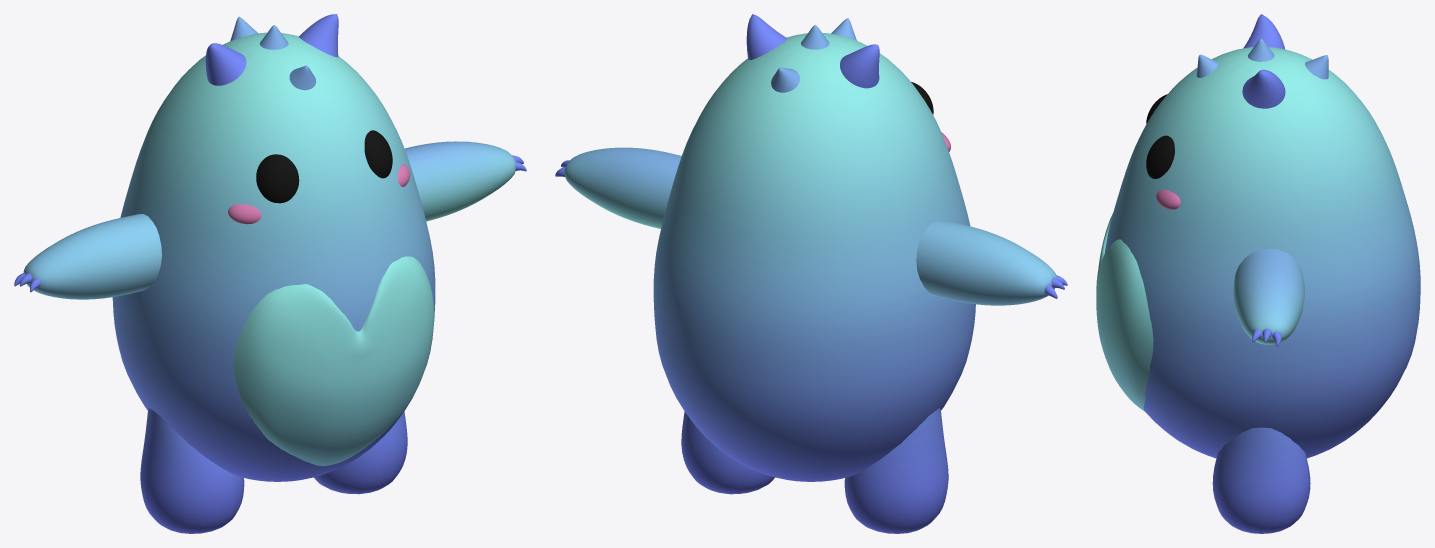
Rendered from ch_public_04.fbx.
The picture shows the model from 3 angles, left to right: view 1: azimuth 30°, elevation 25°; view 2: azimuth 150°, elevation 25°; view 3: azimuth 270°, elevation 25°; orthographic projection. The views are drawn at different scales.
Visible parts, largest first — view 1: ch_2_body, ch_2_belly, ch_2_arm_right, ch_2_leg_right, ch_2_arm_left, ch_2_leg_left, ch_2_eyes, ch_2_horns, ch_2_mohawk, ch_2_cheeks; view 2: ch_2_body, ch_2_arm_right, ch_2_leg_right, ch_2_arm_left, ch_2_leg_left, ch_2_horns, ch_2_mohawk; view 3: ch_2_body, ch_2_leg_left, ch_2_belly, ch_2_arm_left, ch_2_horns, ch_2_mohawk, ch_2_eyes.
Part boxes in pixels (x1=…): ch_2_body: x1=112, y1=32, x2=435, y2=481; ch_2_belly: x1=233, y1=256, x2=434, y2=466; ch_2_arm_right: x1=14, y1=214, x2=161, y2=299; ch_2_leg_right: x1=140, y1=408, x2=244, y2=533; ch_2_arm_left: x1=405, y1=141, x2=526, y2=221; ch_2_leg_left: x1=314, y1=411, x2=407, y2=494; ch_2_eyes: x1=256, y1=130, x2=392, y2=203; ch_2_horns: x1=205, y1=14, x2=338, y2=85; ch_2_mohawk: x1=230, y1=17, x2=316, y2=90; ch_2_cheeks: x1=228, y1=163, x2=410, y2=224; ch_2_body: x1=653, y1=33, x2=975, y2=481; ch_2_arm_right: x1=916, y1=220, x2=1067, y2=305; ch_2_leg_right: x1=844, y1=408, x2=948, y2=533; ch_2_arm_left: x1=555, y1=147, x2=681, y2=228; ch_2_leg_left: x1=681, y1=411, x2=774, y2=494; ch_2_horns: x1=746, y1=14, x2=879, y2=88; ch_2_mohawk: x1=771, y1=18, x2=856, y2=92; ch_2_body: x1=1104, y1=47, x2=1420, y2=458; ch_2_leg_left: x1=1212, y1=427, x2=1310, y2=533; ch_2_belly: x1=1096, y1=213, x2=1153, y2=411; ch_2_arm_left: x1=1233, y1=248, x2=1304, y2=346; ch_2_horns: x1=1242, y1=14, x2=1285, y2=108; ch_2_mohawk: x1=1196, y1=38, x2=1328, y2=79; ch_2_eyes: x1=1146, y1=94, x2=1174, y2=178.
Bounding box in the file's own units: 15.08 × 13.74 × 8.98.
Materials: 1 (1 with a texture image).
